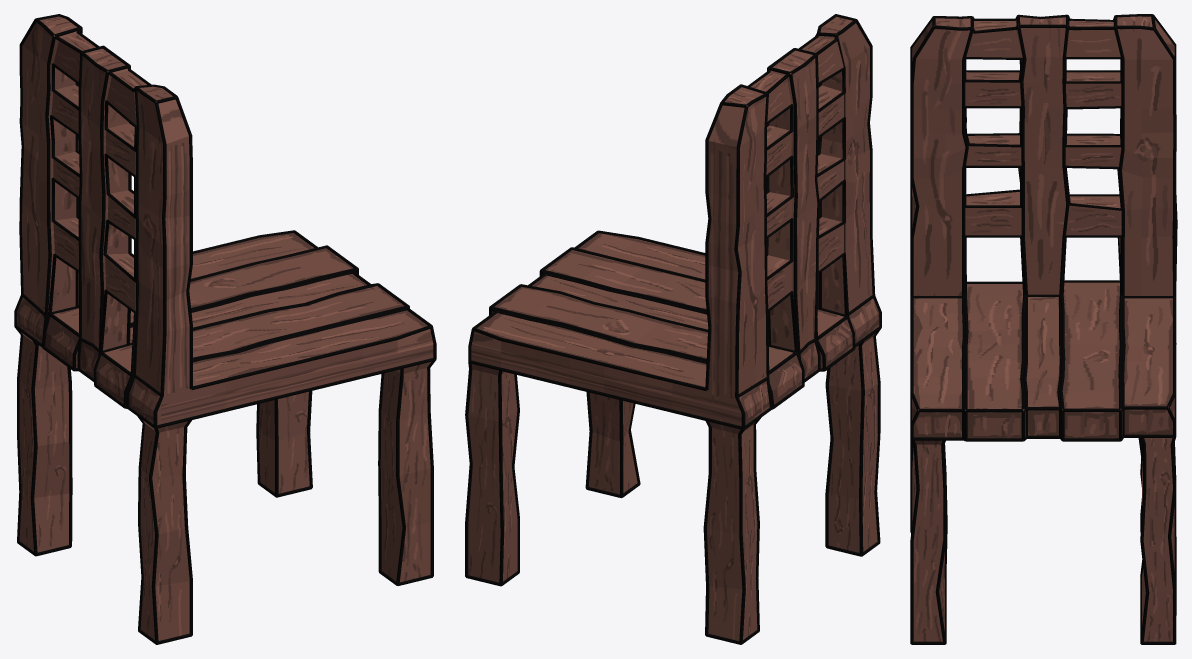
Rendered from chair.glb.
3 views of the same model, side by side, from view 1: azimuth 30°, elevation 25°; view 2: azimuth 150°, elevation 25°; view 3: azimuth 270°, elevation 25° (orthographic). The views are drawn at different scales.
Visible parts, largest first — view 1: Cube.001; view 2: Cube.001; view 3: Cube.001.
Boxes of the visible parts, x1,y1,x2,y2 form: Cube.001: (14,14,436,644); Cube.001: (465,14,881,644); Cube.001: (910,14,1177,644).
Size of the model in its own units: 1.87 by 3.33 by 1.59.
Materials: 2 (1 with a texture image).
